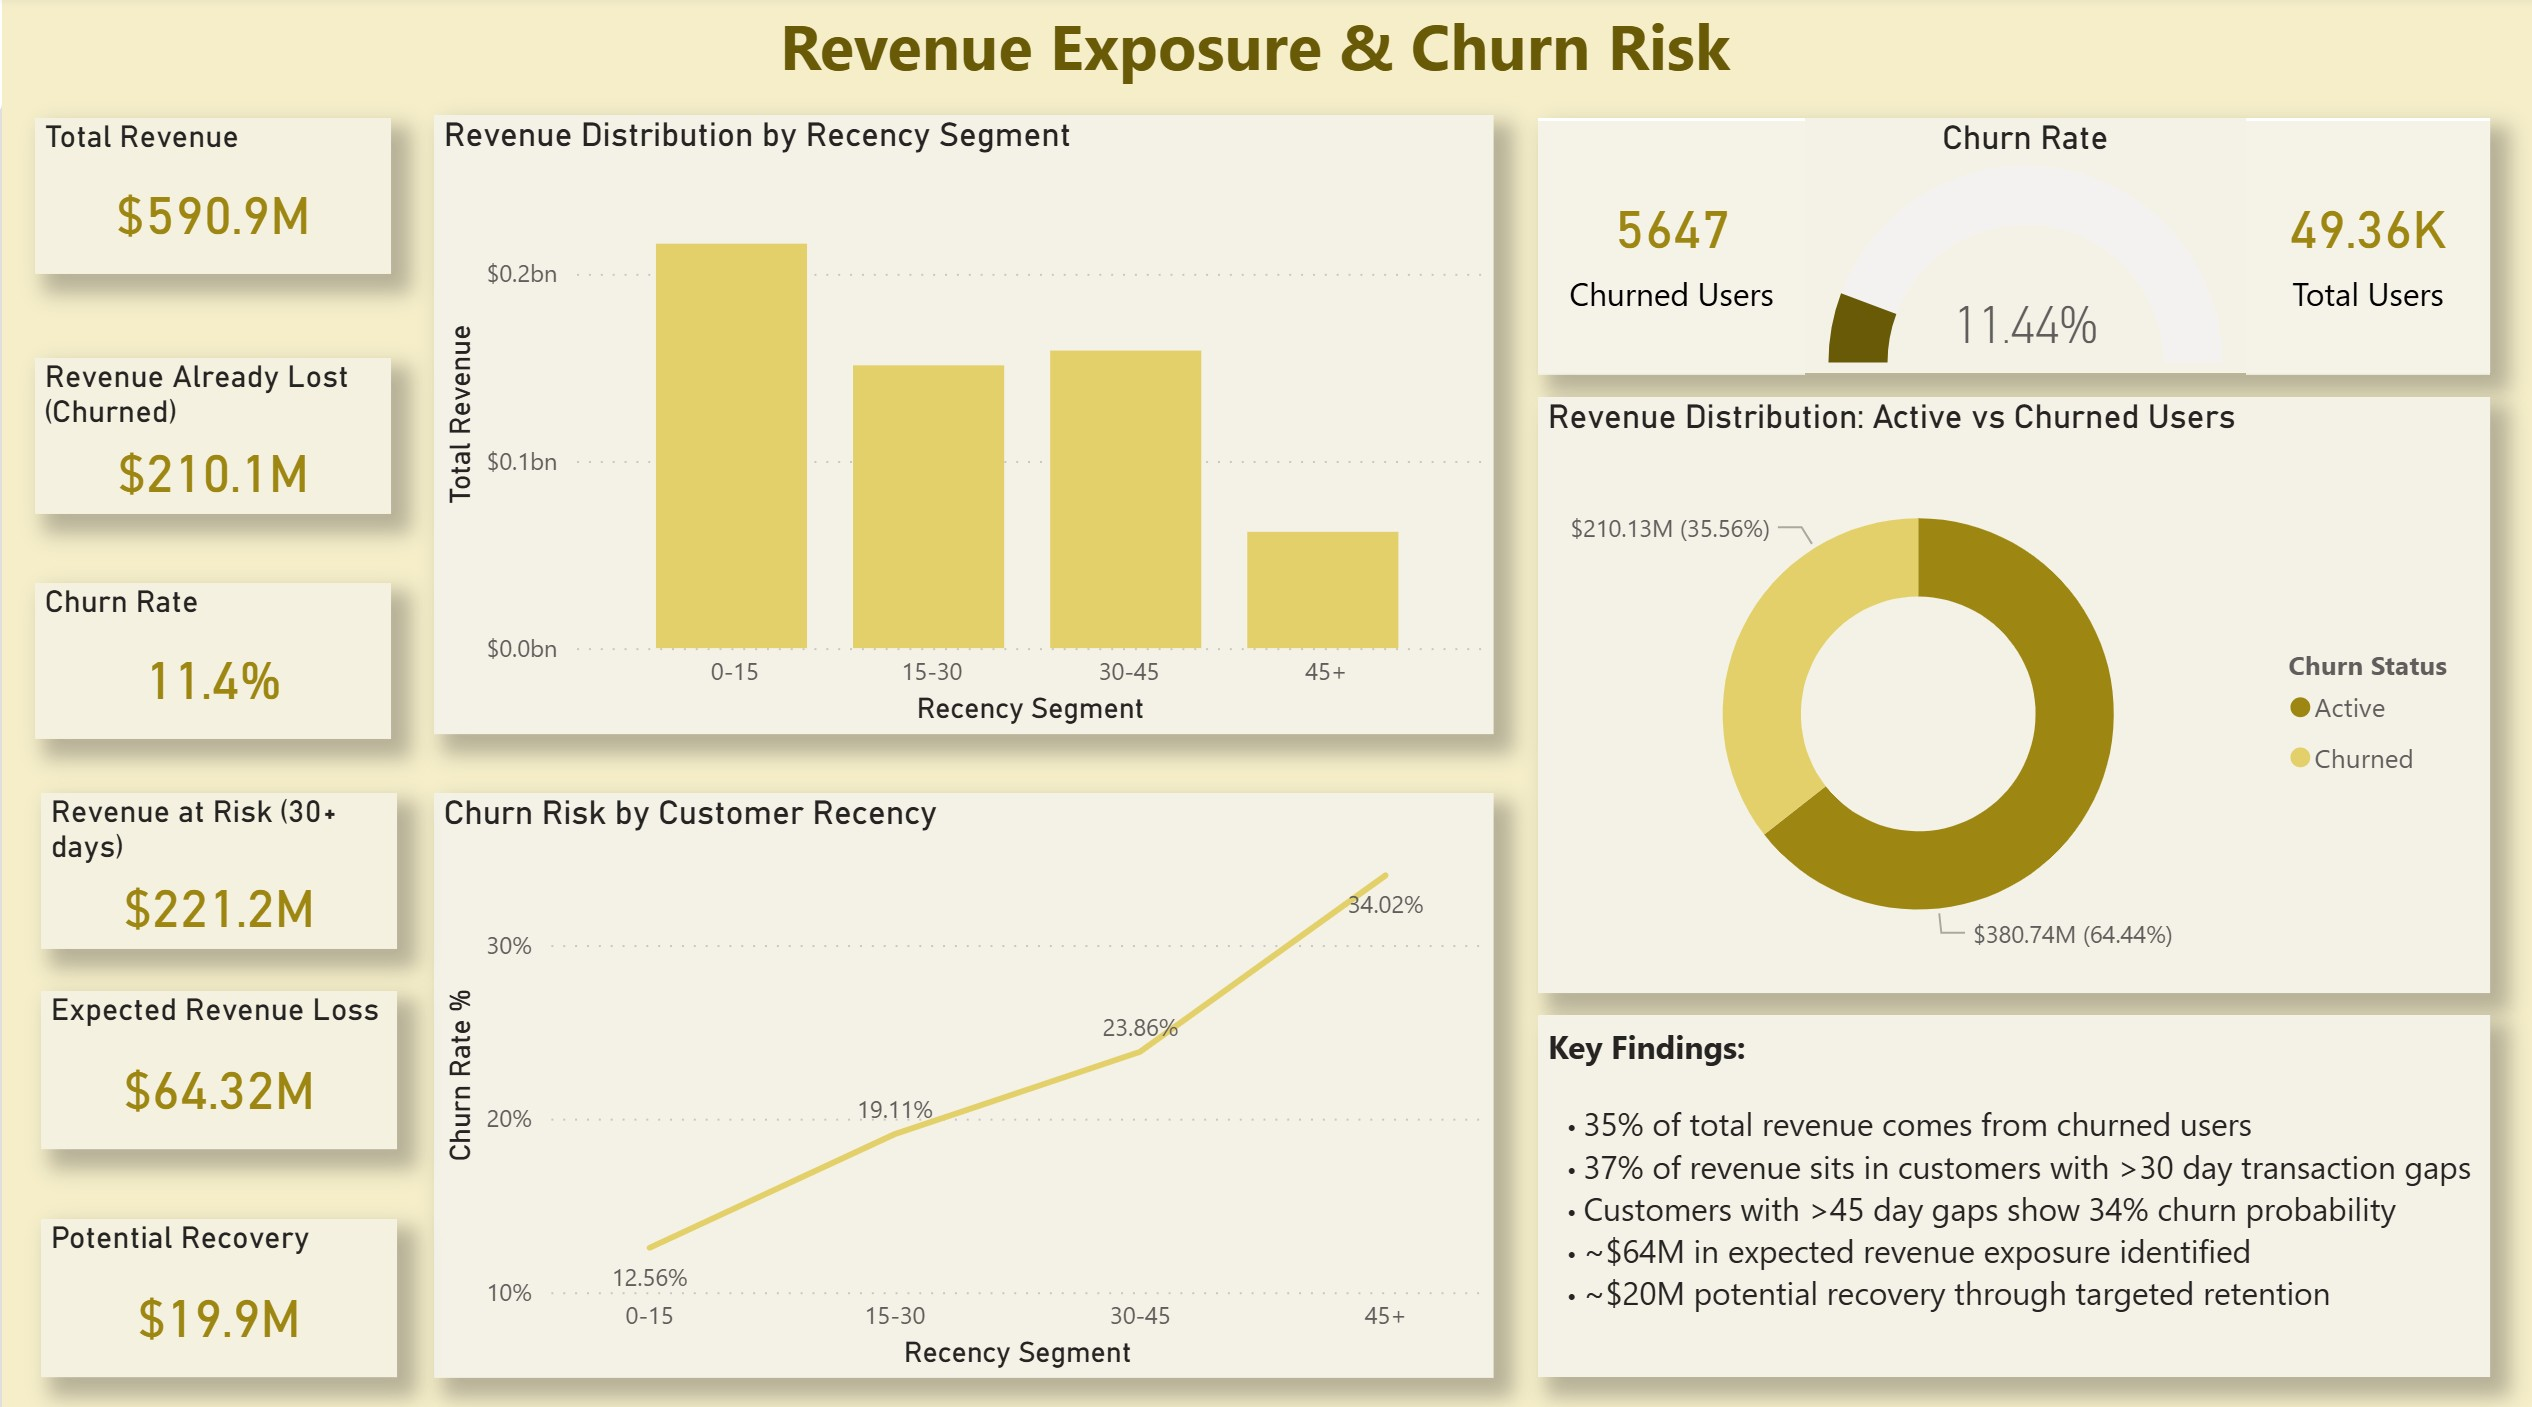

The page's visual inventory and layout, read from the dashboard file:
{"tool":"powerbi","page":{"name":"Executive Summary","canvas":[1280,720],"ordinal":0},"visuals":[{"type":"shape","box":[777.1,64.3,481.4,128.6],"z":0},{"type":"donutChart","title":"Revenue Distribution: Active vs Churned Users","fields":{"Category":["churn_bi_table.Churn Status"],"Y":["churn_bi_table.Total Revenue"]},"box":[777.1,204.3,481.4,301.4],"z":1000},{"type":"clusteredColumnChart","title":"Revenue Distribution by Recency Segment","fields":{"Y":["churn_bi_table.Total Revenue"],"Category":["churn_bi_table.gap_bucket"]},"box":[218.6,62.9,535.7,312.9],"z":2000},{"type":"lineChart","title":"Churn Risk by Customer Recency","fields":{"Y":["churn_bi_table.Churn Rate %"],"Category":["churn_bi_table.gap_bucket"]},"box":[218.6,404.3,535.7,295.7],"z":3000},{"type":"card","title":"Total Revenue","fields":{"Values":["churn_bi_table.Total Revenue"]},"box":[17.1,64.3,180,78.6],"z":4000},{"type":"card","title":"Churn Rate","fields":{"Values":["churn_bi_table.Churn Rate %"]},"box":[17.1,298.6,180,78.6],"z":5000},{"type":"card","fields":{"Values":["churn_bi_table.Churned Users"]},"box":[776.7,65,135,128.3],"z":6000},{"type":"card","title":"Revenue Already Lost (Churned)","fields":{"Values":["churn_bi_table.Revenue - Churned"]},"box":[17.1,185.7,180,78.6],"z":7000},{"type":"card","title":"Total Users","fields":{"Values":["churn_bi_table.Total Users"]},"box":[1135,65,123.3,128.3],"z":8000},{"type":"card","title":"Revenue at Risk (30+ days)","fields":{"Values":["churn_bi_table.Revenue At Risk"]},"box":[20,404.3,180,78.6],"z":9000},{"type":"card","title":"Expected Revenue Loss","fields":{"Values":["churn_bi_table.Expected Revenue Loss"]},"box":[20,505.7,180,80],"z":10000},{"type":"card","title":"Potential Recovery","fields":{"Values":["churn_bi_table.Potential Recovery"]},"box":[20,620,180,80],"z":11000},{"type":"textbox","box":[777.1,517.1,481.4,182.9],"z":12000},{"type":"textbox","box":[388.6,0,501.4,54.3],"z":13000},{"type":"gauge","title":"Churn Rate ","fields":{"Y":["churn_bi_table.Churn Rate %"]},"box":[911.4,64.3,222.9,128.6],"z":14000}]}

Visuals, with their boxes in screenshot pixels (x1, y1, x2, y2), scaled from the page's 1280x720 canvas onto the 2532x1407 screenshot:
shape: [left=1537, top=126, right=2489, bottom=377]
"Revenue Distribution: Active vs Churned Users" donutChart: [left=1537, top=399, right=2489, bottom=988]
"Revenue Distribution by Recency Segment" clusteredColumnChart: [left=432, top=123, right=1492, bottom=734]
"Churn Risk by Customer Recency" lineChart: [left=432, top=790, right=1492, bottom=1368]
"Total Revenue" card: [left=34, top=126, right=390, bottom=279]
"Churn Rate" card: [left=34, top=584, right=390, bottom=737]
card - churn_bi_table.Churned Users: [left=1536, top=127, right=1803, bottom=378]
"Revenue Already Lost (Churned)" card: [left=34, top=363, right=390, bottom=516]
"Total Users" card: [left=2245, top=127, right=2489, bottom=378]
"Revenue at Risk (30+ days)" card: [left=40, top=790, right=396, bottom=944]
"Expected Revenue Loss" card: [left=40, top=988, right=396, bottom=1145]
"Potential Recovery" card: [left=40, top=1212, right=396, bottom=1368]
textbox: [left=1537, top=1010, right=2489, bottom=1368]
textbox: [left=769, top=0, right=1761, bottom=106]
"Churn Rate " gauge: [left=1803, top=126, right=2244, bottom=377]
